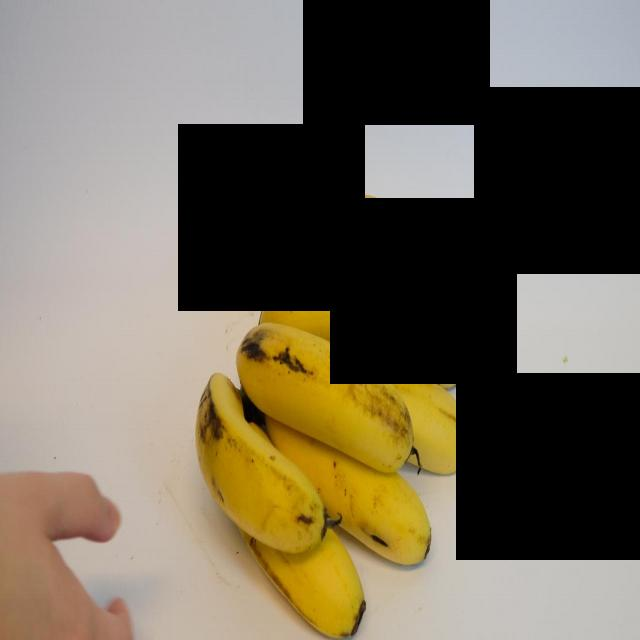banana: (177, 356, 330, 549), (280, 417, 443, 573), (234, 329, 416, 468), (260, 259, 449, 376), (261, 186, 444, 296), (366, 348, 487, 499), (234, 521, 374, 636), (429, 299, 485, 387)
